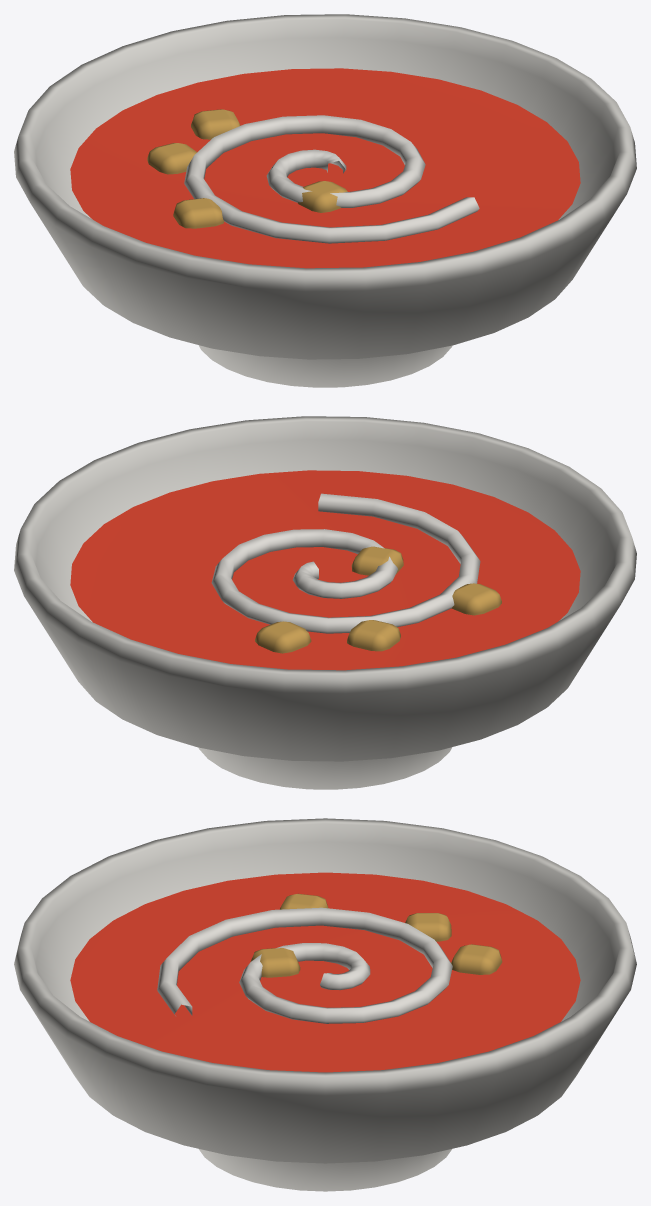
The model's file is item_dish_tomato_soup.glb.
The picture shows the model from 3 angles, top to bottom: view 1: azimuth 30°, elevation 25°; view 2: azimuth 150°, elevation 25°; view 3: azimuth 270°, elevation 25°; orthographic projection.
Parts seen in each view (by area): view 1: item_dish_tomato_soup_main, item_dish_tomato_soup_gloss; view 2: item_dish_tomato_soup_main, item_dish_tomato_soup_gloss; view 3: item_dish_tomato_soup_main, item_dish_tomato_soup_gloss.
Boxes of the visible parts, x1,y1,x2,y2 form: item_dish_tomato_soup_main: [14, 14, 636, 387]; item_dish_tomato_soup_gloss: [70, 68, 580, 268]; item_dish_tomato_soup_main: [14, 416, 636, 789]; item_dish_tomato_soup_gloss: [70, 470, 580, 670]; item_dish_tomato_soup_main: [14, 818, 636, 1191]; item_dish_tomato_soup_gloss: [70, 872, 580, 1072].
Bounding box in the file's own units: 0.21 × 0.07 × 0.21.
